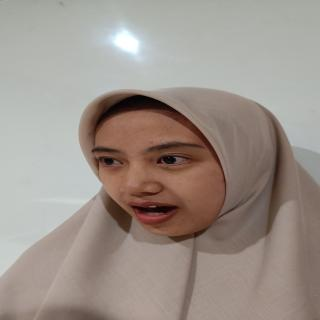Takut: (85, 105, 256, 246)
